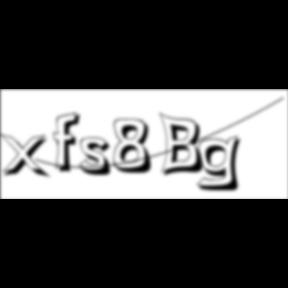8: (114, 117, 158, 176)
B: (159, 111, 209, 179)
f: (54, 111, 86, 175)
g: (197, 134, 249, 194)
s: (80, 137, 118, 179)
x: (0, 132, 54, 181)
